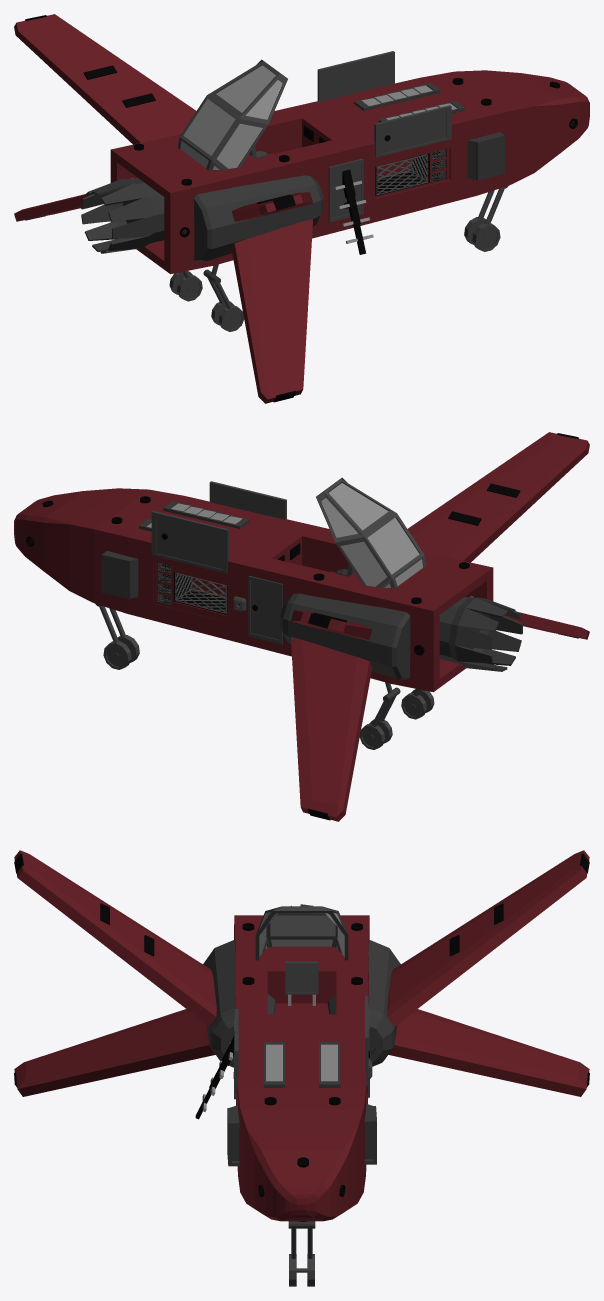
File: FighterGen7_red_open.glb
3 renders of one model, top to bottom at view 1: azimuth 30°, elevation 25°; view 2: azimuth 150°, elevation 25°; view 3: azimuth 270°, elevation 25°, orthographic. The views are drawn at different scales.
Visible parts, largest first — view 1: Body, Cube.003, Cylinder, Cylinder.002, Cube.116, Cube.114, Cube.099, Cube.043, Cube.104, Cube.120, Cube.102, Cube.105 (+7 smaller); view 2: Body, Cube.003, Cylinder, Cylinder.002, Cube.114, Cube.099, Cube.115, Cube.116, Cube.043, Cube.104, Cube.102, Cube.105 (+7 smaller); view 3: Cube.003, Body, Cylinder, Cube.099, Cube.043, Cube.104, Cube.094, Cube.108.
Part boxes in pixels (bbox=[...]): Body: bbox=[110, 70, 589, 274]; Cube.003: bbox=[14, 14, 312, 403]; Cylinder: bbox=[193, 151, 323, 261]; Cylinder.002: bbox=[81, 178, 164, 253]; Cube.116: bbox=[374, 105, 451, 157]; Cube.114: bbox=[317, 51, 394, 101]; Cube.099: bbox=[178, 59, 287, 170]; Cube.043: bbox=[467, 132, 504, 180]; Cube.104: bbox=[183, 99, 235, 155]; Cube.120: bbox=[328, 158, 363, 222]; Cube.102: bbox=[216, 65, 275, 112]; Cube.105: bbox=[217, 123, 262, 168]; Body: bbox=[14, 488, 493, 692]; Cube.003: bbox=[291, 432, 589, 821]; Cylinder: bbox=[280, 569, 410, 679]; Cylinder.002: bbox=[439, 596, 522, 671]; Cube.114: bbox=[151, 511, 229, 573]; Cube.099: bbox=[316, 477, 425, 588]; Cube.115: bbox=[248, 575, 282, 644]; Cube.116: bbox=[209, 481, 286, 519]; Cube.043: bbox=[101, 551, 138, 599]; Cube.104: bbox=[367, 517, 419, 574]; Cube.102: bbox=[328, 483, 388, 530]; Cube.105: bbox=[341, 541, 386, 586]; Cube.003: bbox=[14, 850, 589, 1096]; Body: bbox=[234, 915, 369, 1221]; Cylinder: bbox=[203, 939, 400, 1067]; Cube.099: bbox=[255, 906, 348, 960]; Cube.043: bbox=[227, 1104, 376, 1166]; Cube.104: bbox=[270, 915, 335, 935]; Cube.094: bbox=[285, 961, 318, 994]; Cube.108: bbox=[263, 1042, 340, 1087].
Bounding box in the file's own units: 18.67 × 8.45 × 16.83.
